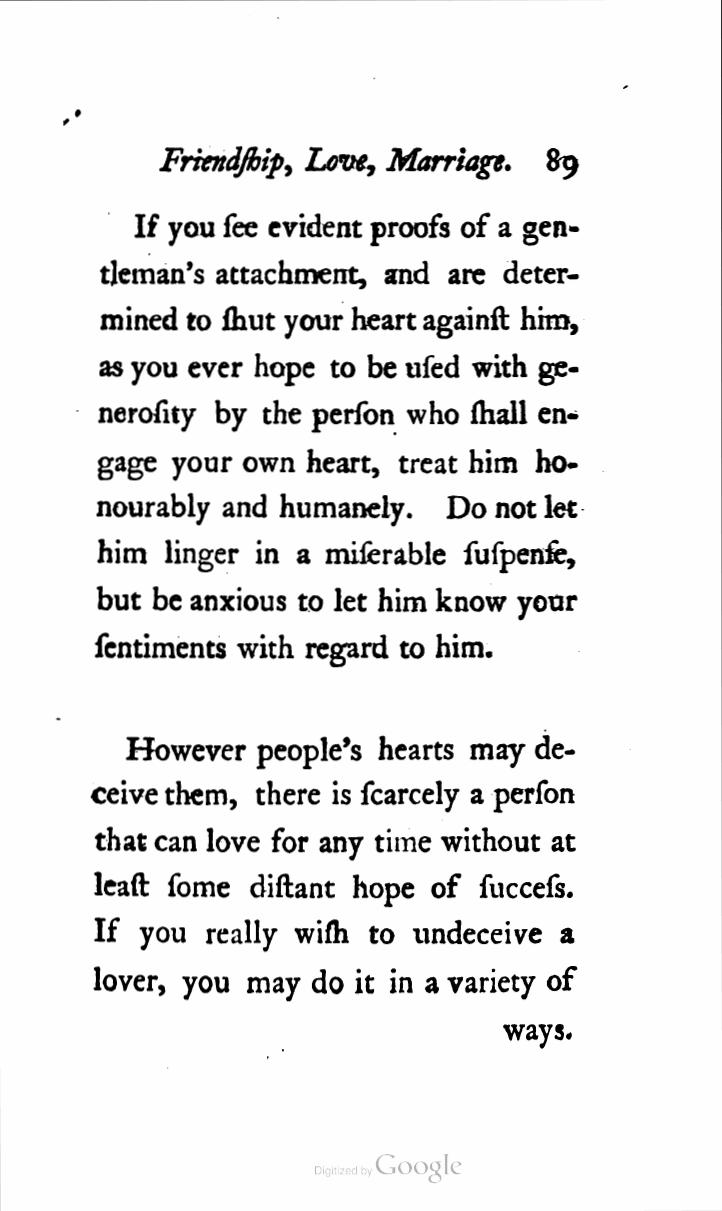catchword: (493, 1004, 581, 1055)
full_p: (97, 204, 587, 671)
header: (150, 127, 523, 186)
page_num: (546, 143, 580, 182)
top_p: (87, 727, 581, 1007)
